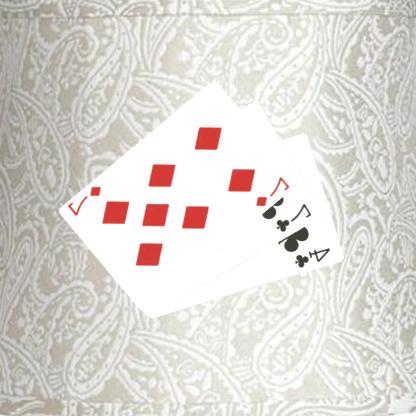4C: (294, 245, 334, 270)
7C: (275, 201, 315, 234)
7D: (68, 183, 105, 218), (255, 174, 292, 208)
